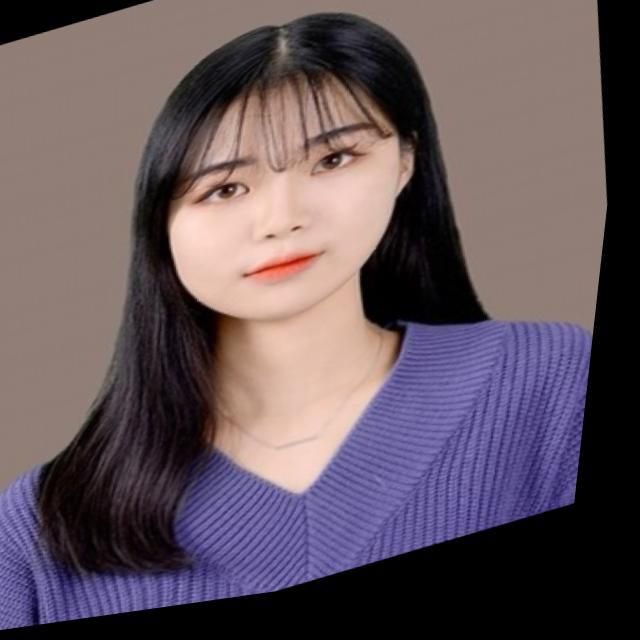Nonhelmet: (139, 22, 438, 326)
